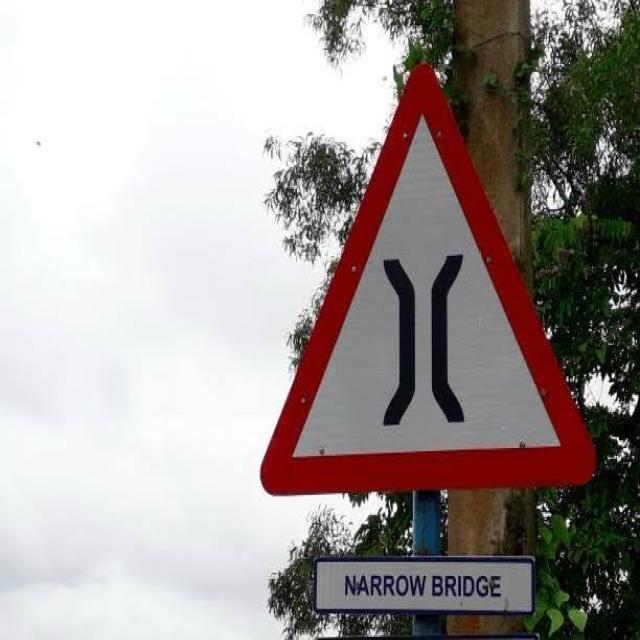Narrow_Bridge: (259, 63, 595, 494)
